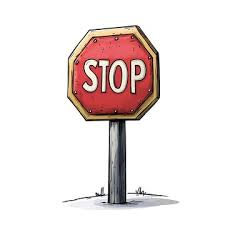stop sign: (67, 26, 161, 121)
